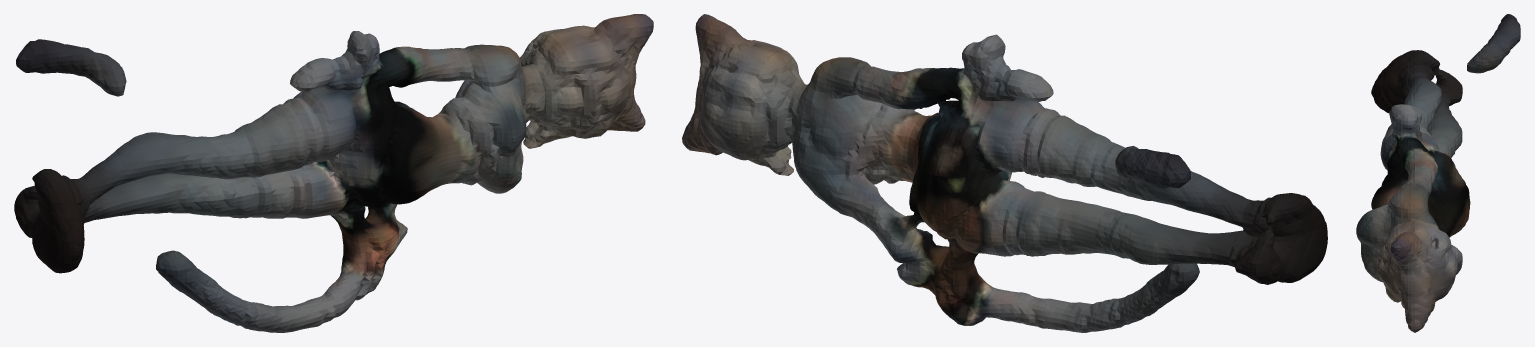
The picture shows the model from 3 angles, left to right: view 1: azimuth 30°, elevation 25°; view 2: azimuth 150°, elevation 25°; view 3: azimuth 270°, elevation 25°; orthographic projection. The views are drawn at different scales.
Size of the model in its own units: 1.02 by 0.4421 by 0.3283.
